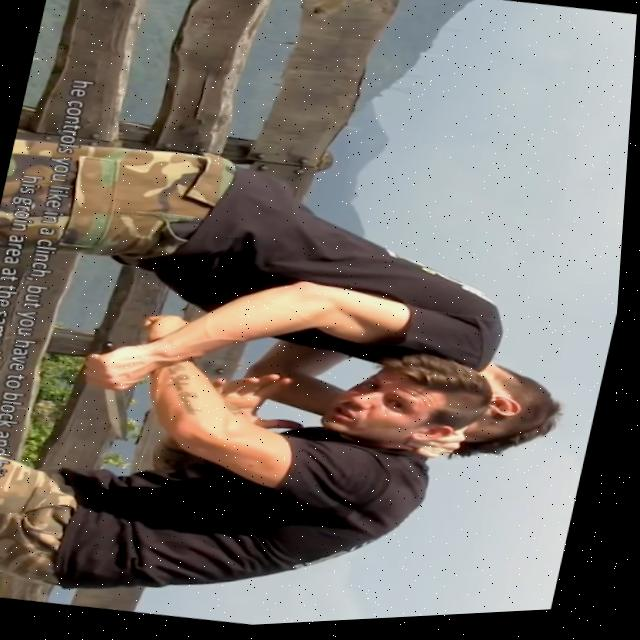knife: (101, 388, 149, 442)
